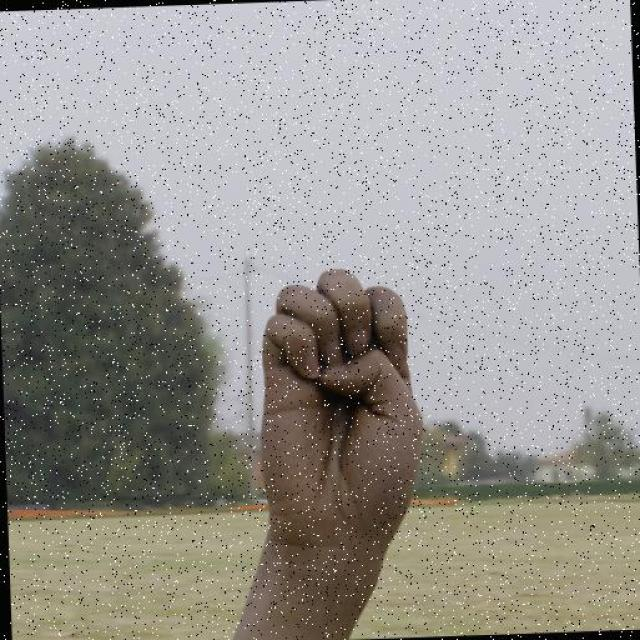E: (250, 262, 429, 558)
